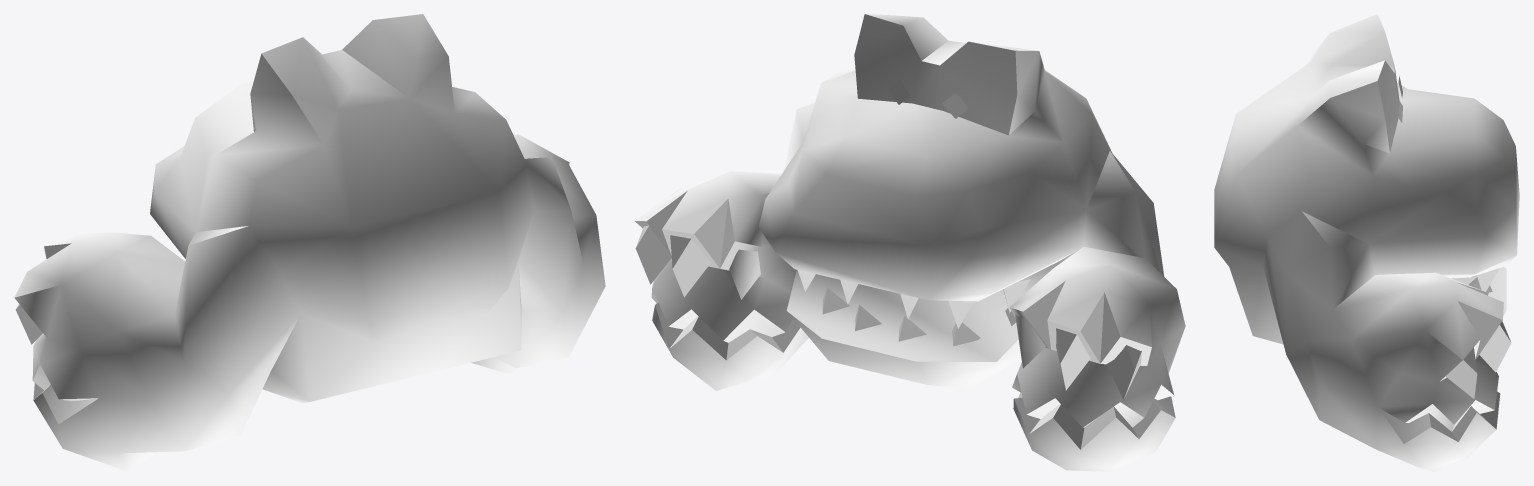
File: dz_icon.ico.obj
3 renders of one model, left to right at view 1: azimuth 30°, elevation 25°; view 2: azimuth 150°, elevation 25°; view 3: azimuth 270°, elevation 25°, orthographic. The views are drawn at different scales.
Bounding box in the file's own units: 4.27 × 2.94 × 2.4.
1 material, 1 textured.
